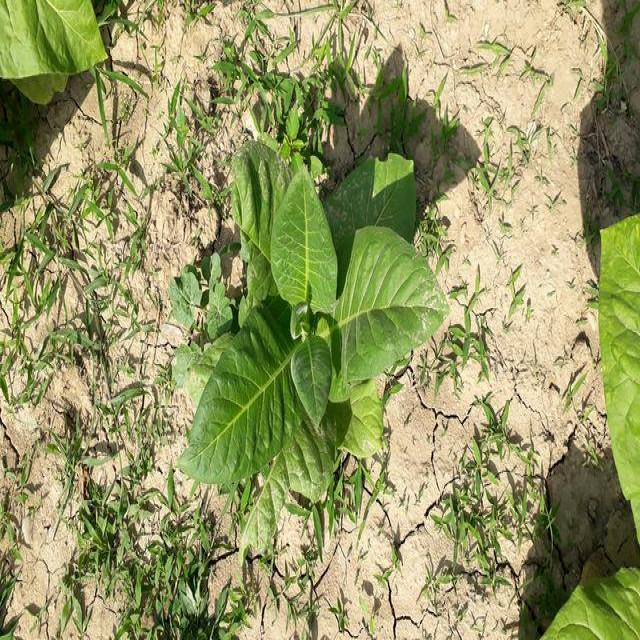crop: (179, 143, 425, 507), (600, 216, 640, 533), (0, 0, 107, 83), (538, 575, 640, 640)
